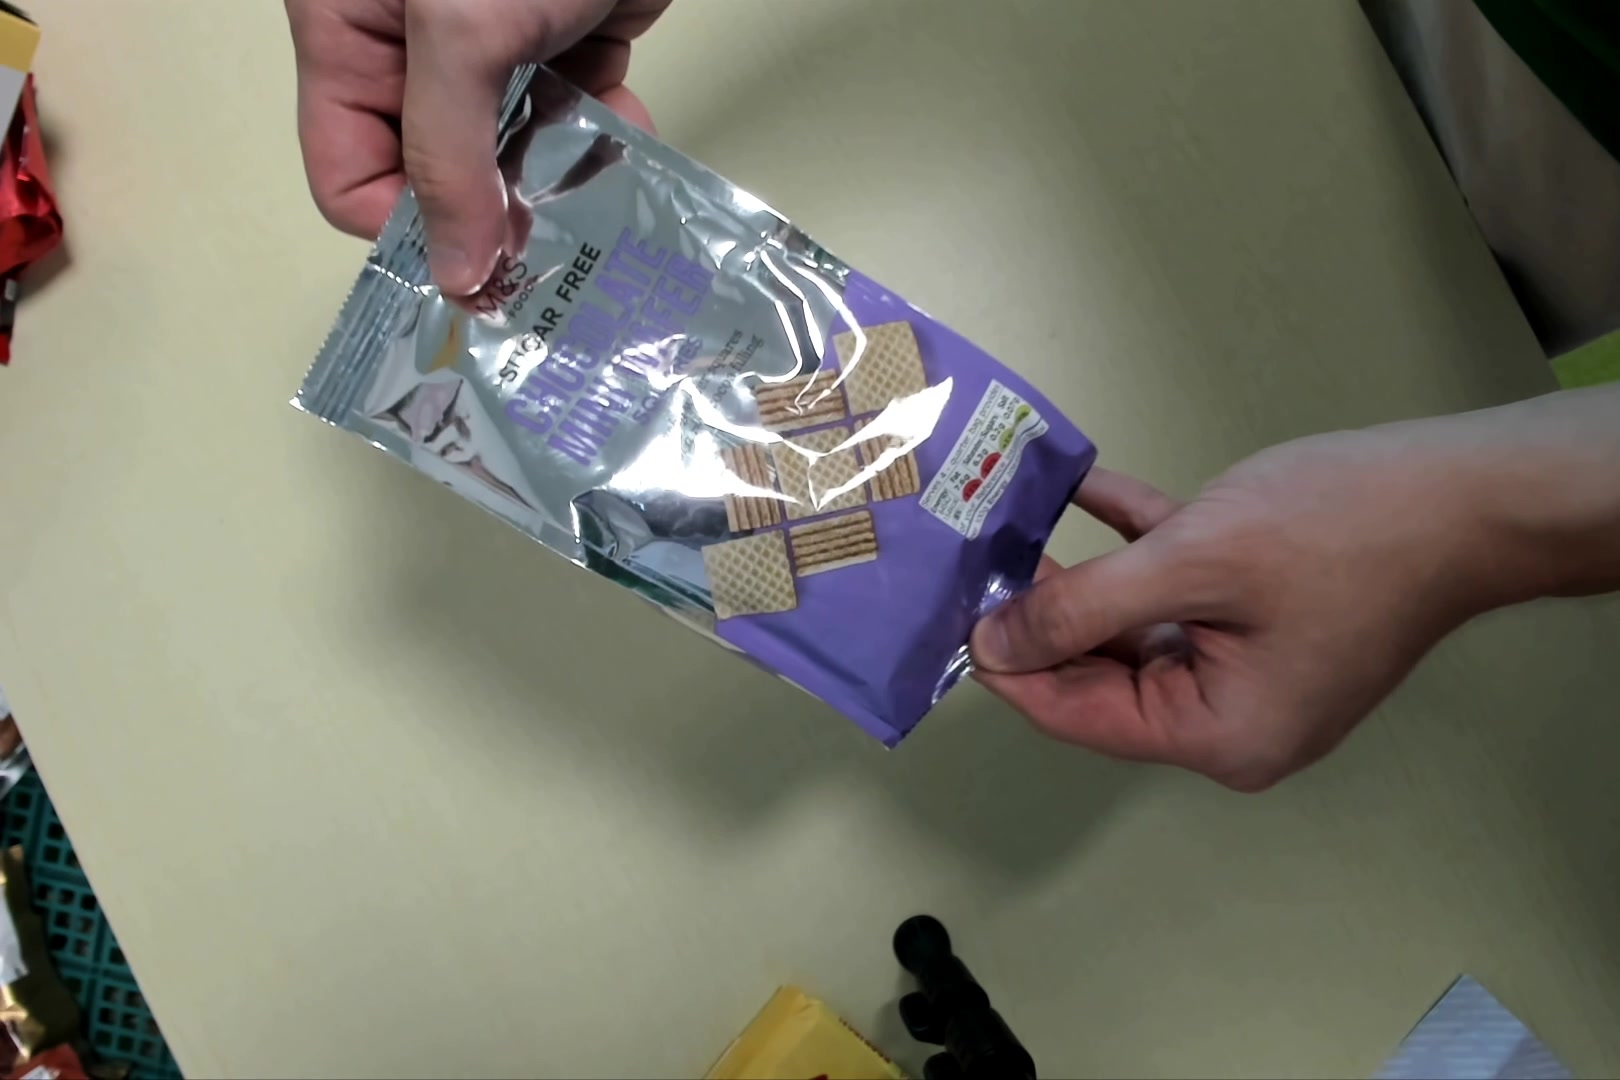SweetsChocolatesOthers_100-199g_NonHalal_NonHealthy: (287, 67, 1096, 758)
